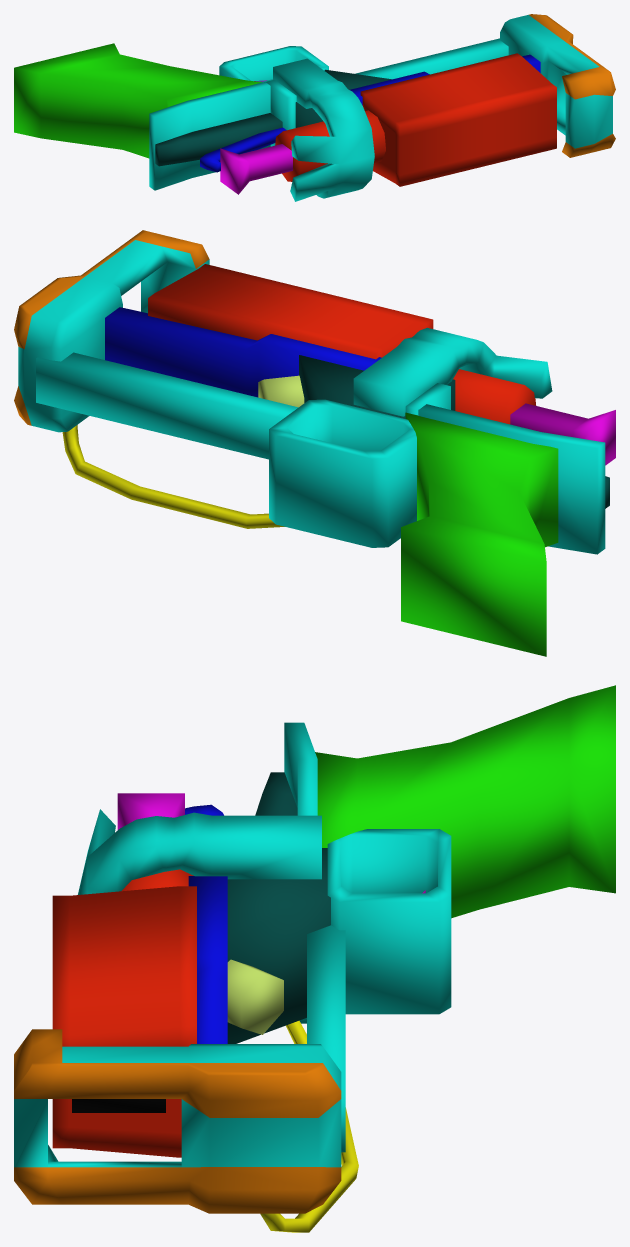
File: Salvage_Handgun.gltf
The picture shows the model from 3 angles, top to bottom: view 1: azimuth 30°, elevation 25°; view 2: azimuth 150°, elevation 25°; view 3: azimuth 270°, elevation 25°; orthographic projection. The views are drawn at different scales.
Parts seen in each view (by area): view 1: Salvage Gun; view 2: Salvage Gun; view 3: Salvage Gun.
Part boxes in pixels (x1,y1,x2,y2): Salvage Gun: [14, 14, 615, 201]; Salvage Gun: [14, 230, 615, 656]; Salvage Gun: [14, 685, 615, 1232].
Size of the model in its own units: 0.1366 by 0.0343 by 0.0869.
